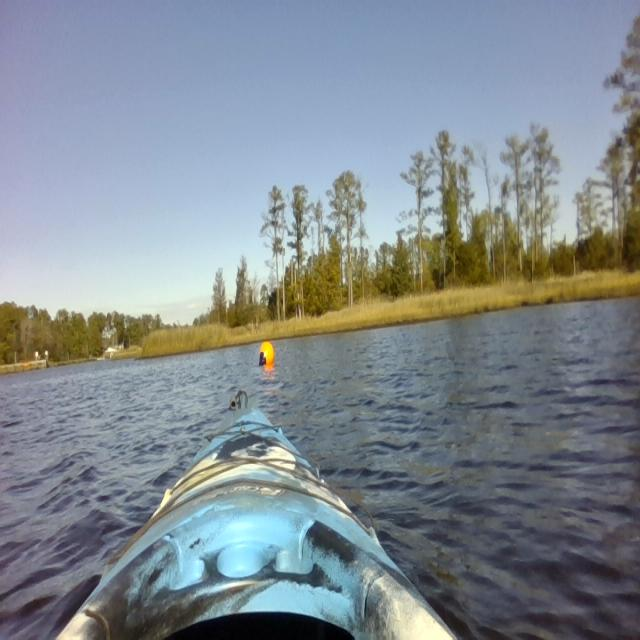Buoy: (256, 338, 276, 374)
